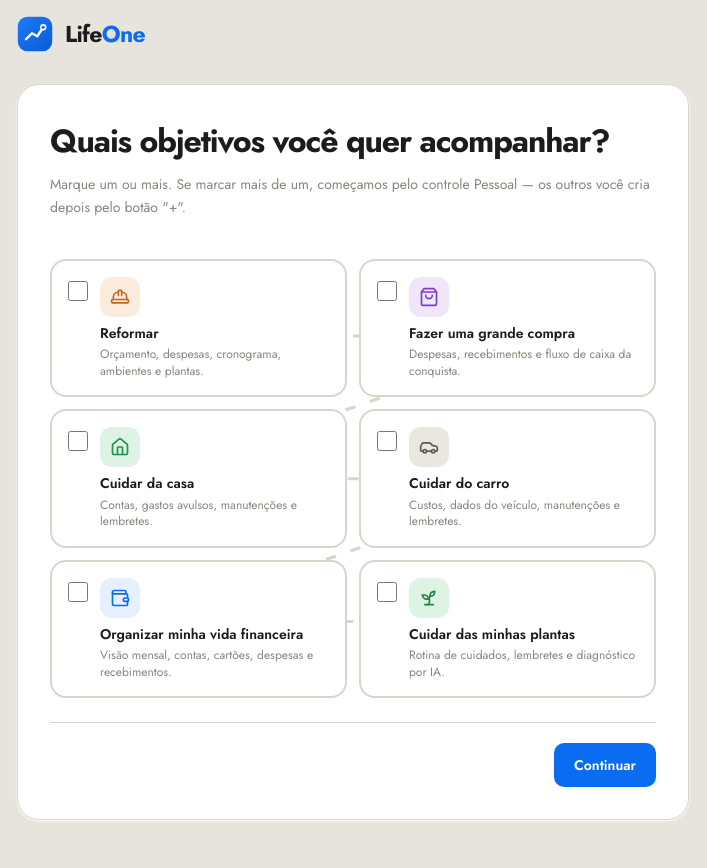
it: /onboarding/objetivos › nothing selected -> does not PATCH, does not navigate, shows 'Escolha pelo menos um'
Click the button "Continuar".
click(605, 765)  # box [554,743,656,787]
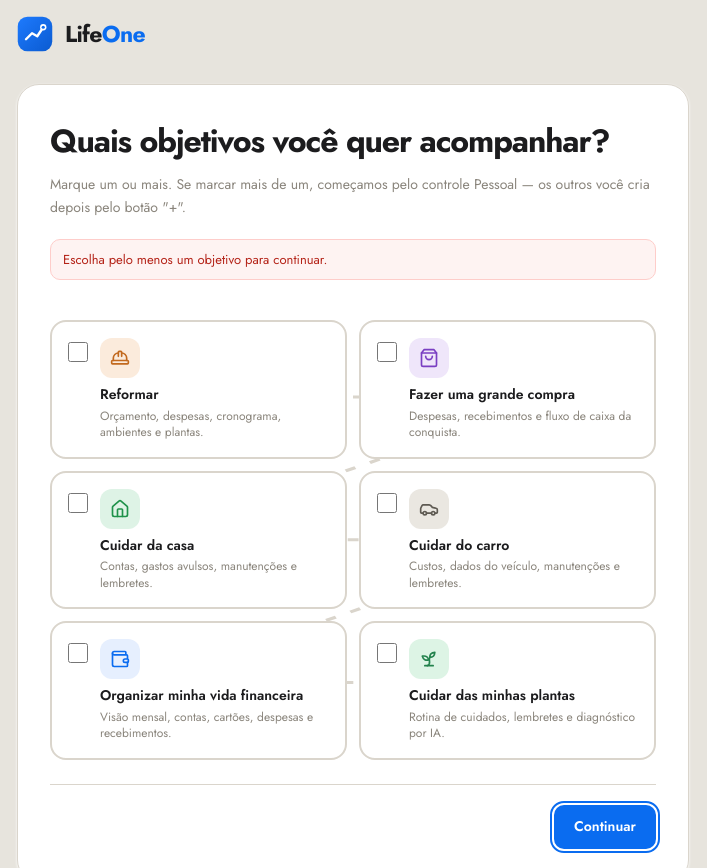
Now the text "Escolha pelo menos um objetivo para continuar." is shown, box [50,238,656,280]
